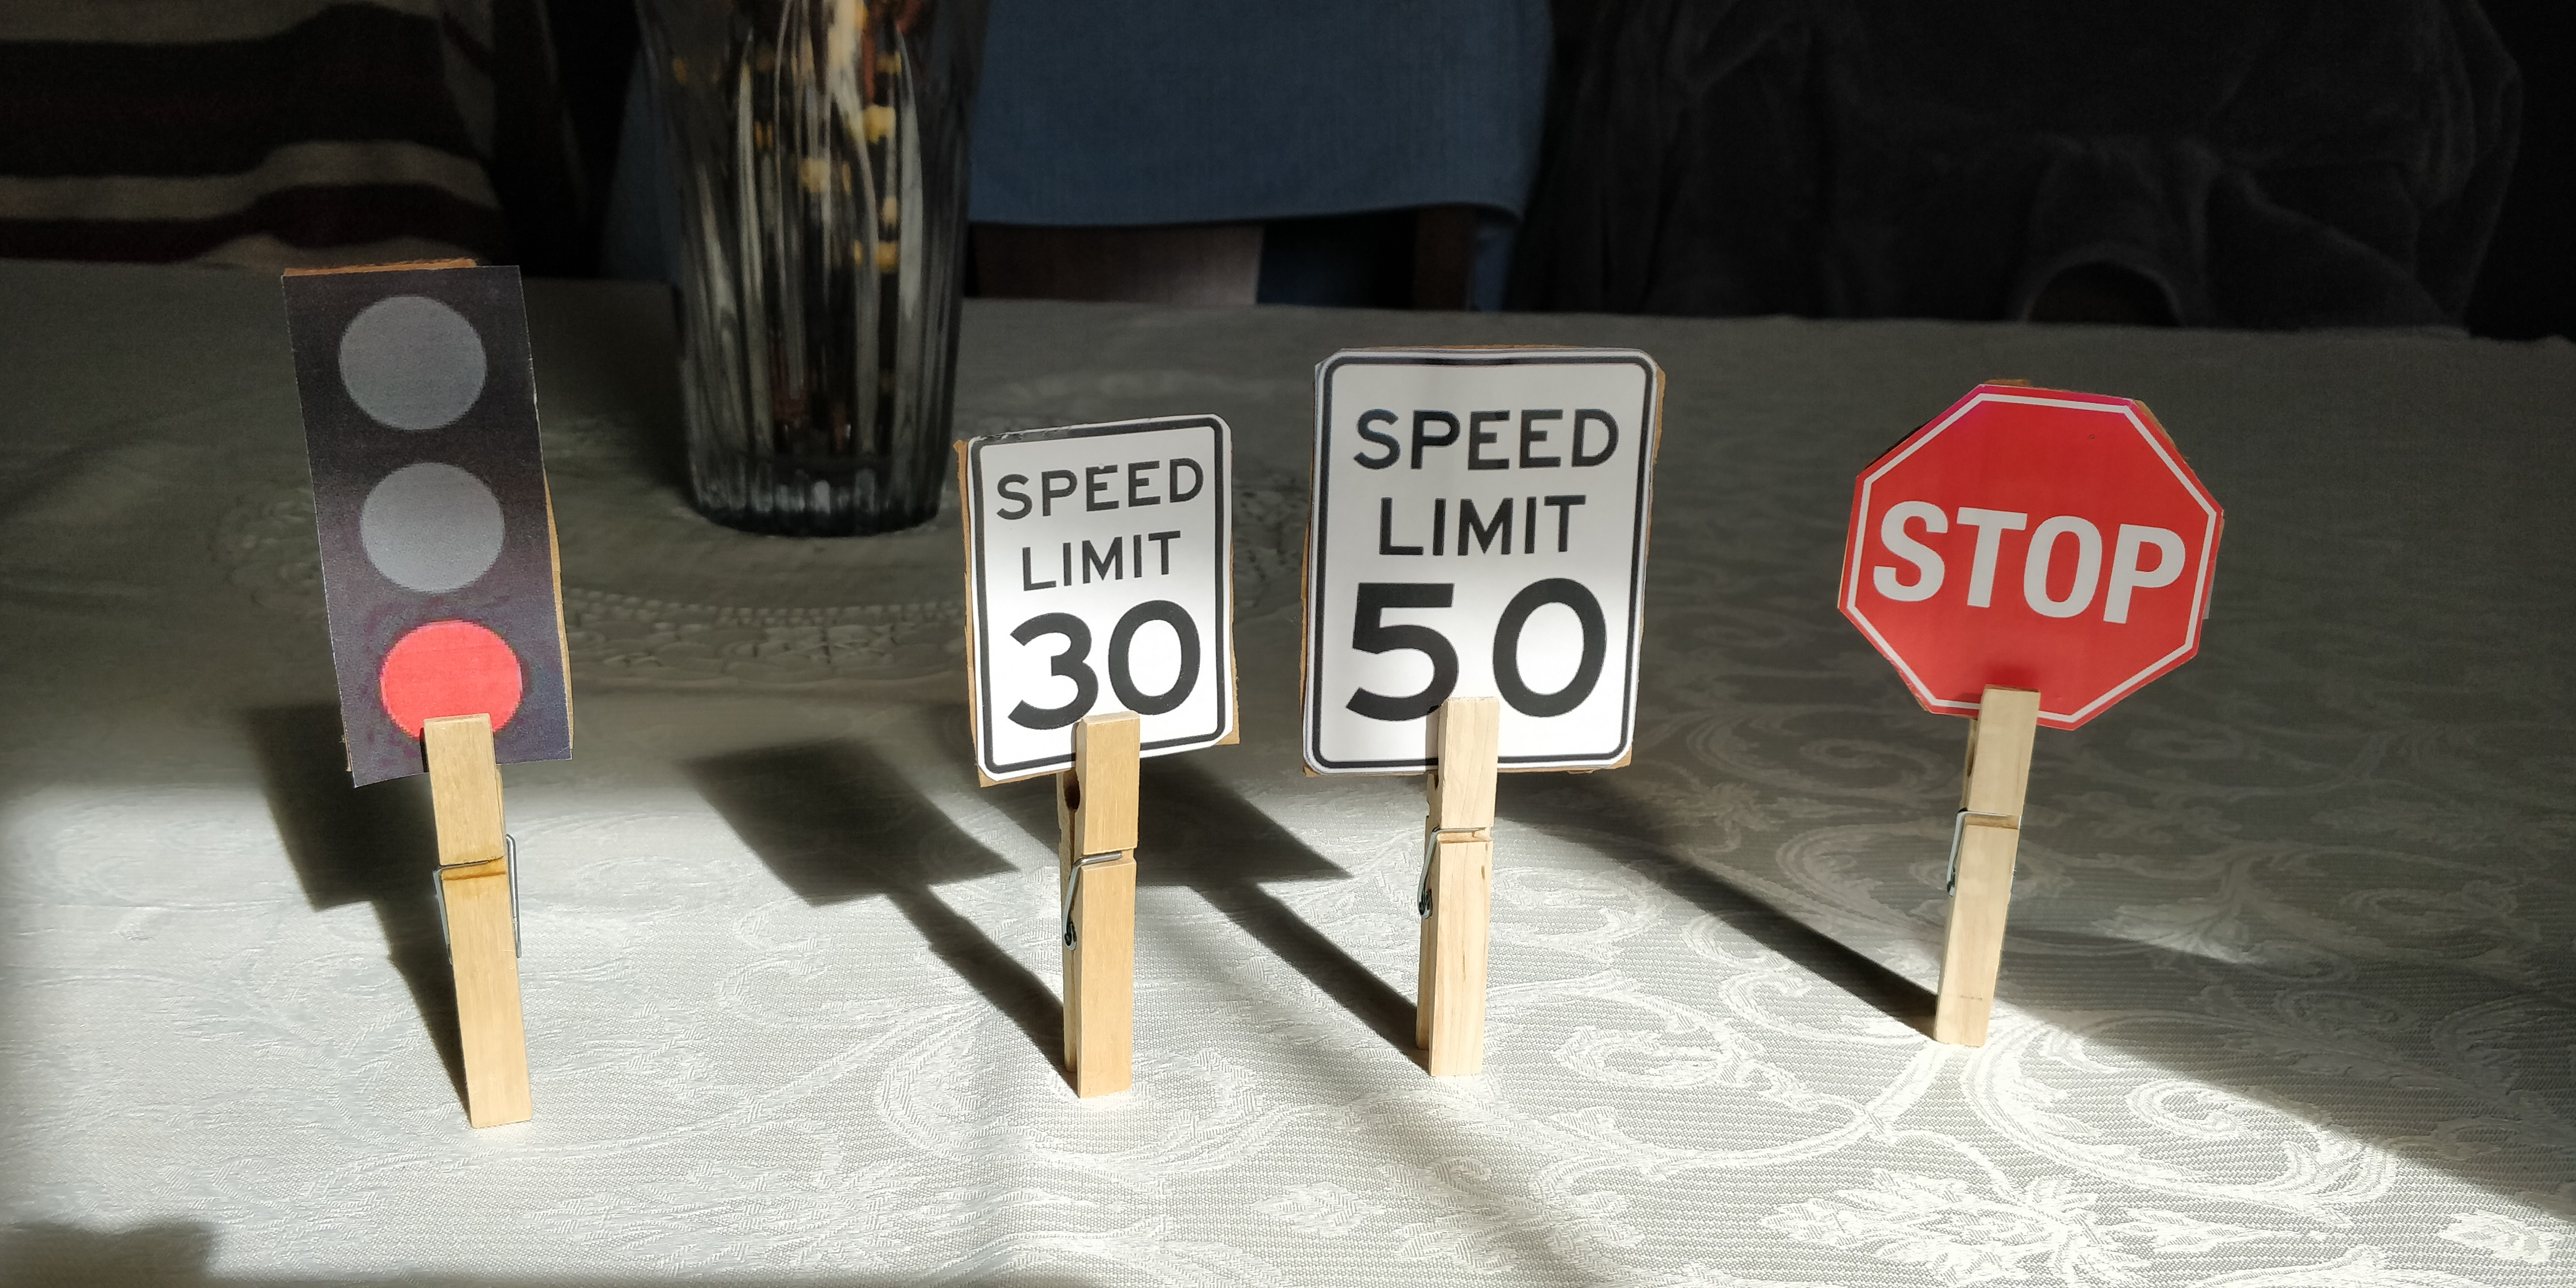Speed Limit 30: (956, 409, 1234, 780)
Speed Limit 50: (1308, 347, 1666, 771)
Stop Sign: (1837, 381, 2221, 734)
red light: (284, 264, 572, 790)
